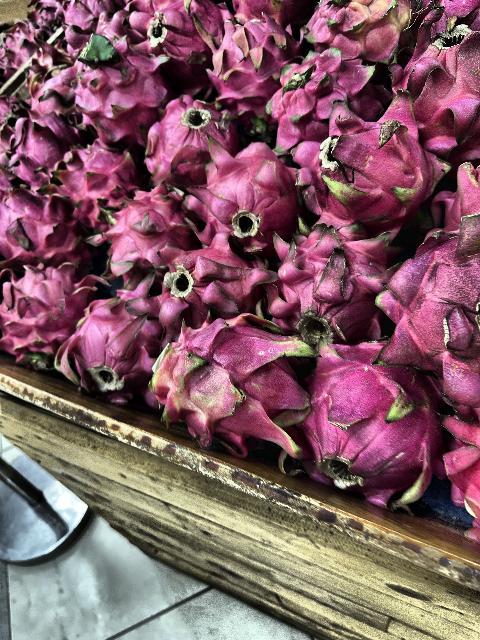buah-naga-belum-matang: (144, 322, 302, 446), (303, 0, 411, 64)
buah-naga-matang: (304, 332, 446, 500), (392, 198, 480, 418), (270, 218, 394, 344), (298, 114, 436, 214), (394, 14, 480, 150), (190, 148, 298, 242), (274, 53, 380, 141), (1, 266, 92, 362), (73, 286, 155, 392), (139, 246, 259, 318), (208, 10, 294, 110), (138, 96, 236, 170), (76, 42, 154, 134), (0, 184, 76, 274), (104, 190, 191, 266), (143, 2, 217, 72), (438, 418, 480, 538), (64, 140, 124, 214), (11, 109, 68, 177), (436, 162, 480, 218)
